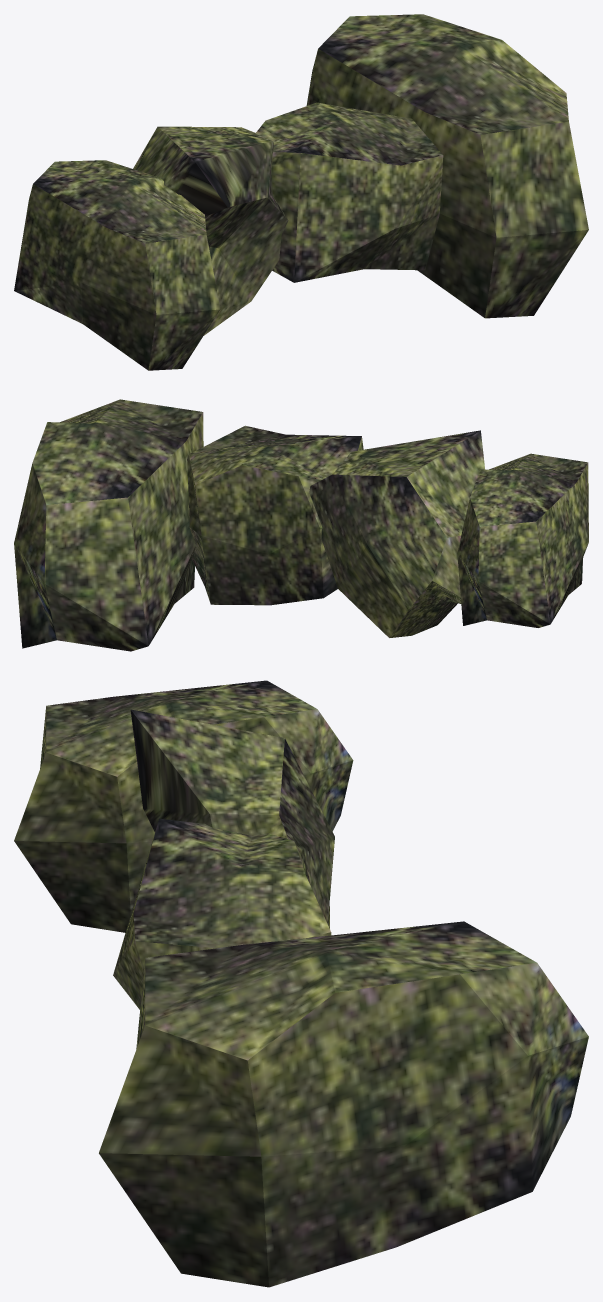
File: Arbusto_Pared.fbx
3 renders of one model, top to bottom at view 1: azimuth 30°, elevation 25°; view 2: azimuth 150°, elevation 25°; view 3: azimuth 270°, elevation 25°, orthographic. The views are drawn at different scales.
Parts seen in each view (by area): view 1: Cube.022; view 2: Cube.022; view 3: Cube.022.
Boxes of the visible parts, <box> form: Cube.022: <box>14,14,588,370</box>; Cube.022: <box>14,399,588,651</box>; Cube.022: <box>14,680,588,1287</box>.
Size of the model in its own units: 35.52 by 15.89 by 24.75.
